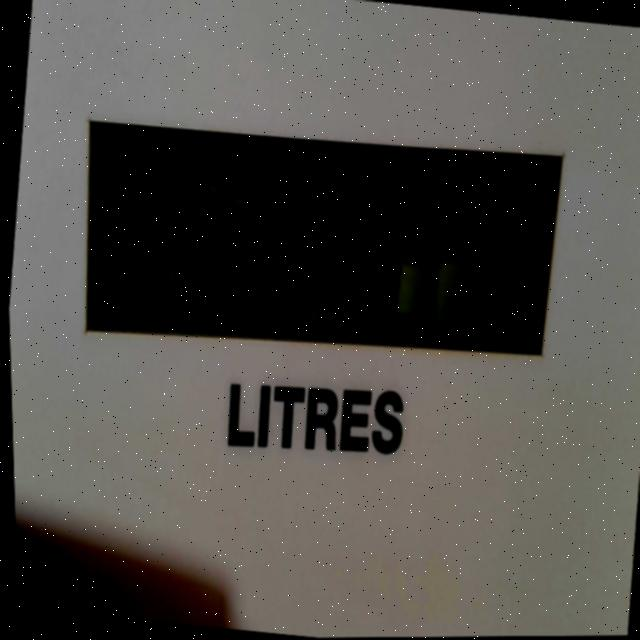.: (356, 289, 386, 344)
0: (369, 167, 460, 345), (446, 172, 529, 357)
4: (227, 152, 314, 338), (303, 168, 381, 343)
